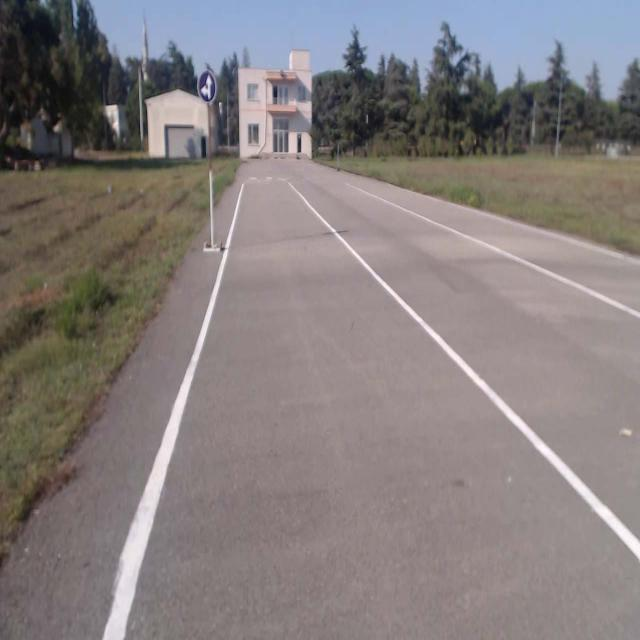ilerisol: (198, 70, 216, 102)
